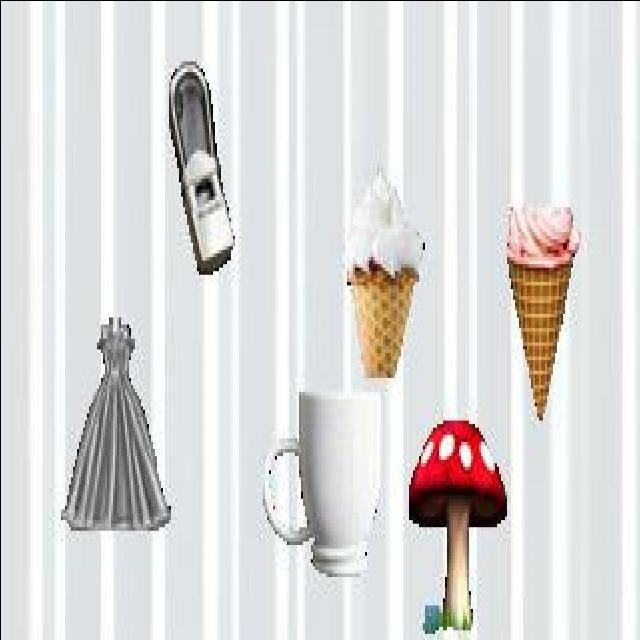Other Objects: (60, 314, 171, 534), (260, 386, 382, 578), (407, 420, 507, 630), (166, 57, 234, 276)
